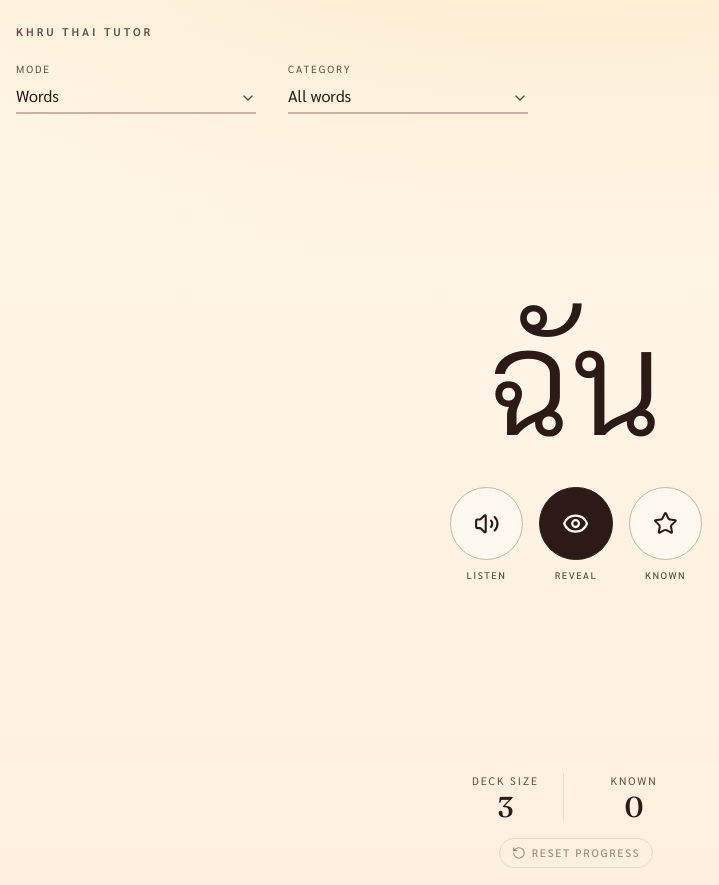
it: App › does not stop the reward sound when the card advances after known
What coordinates should you click on to do the following:
click the button named "mark as mastered"
I would click on:
 (666, 524)
Its box is [629,487,702,560].
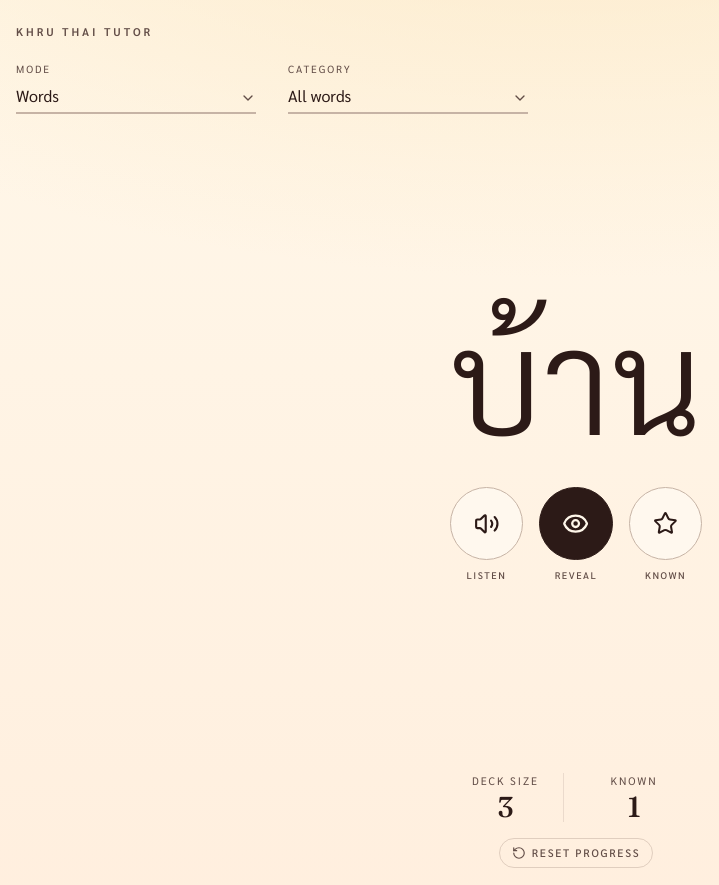
Expected: the text "บ้าน" is shown, [450,296,702,455]
